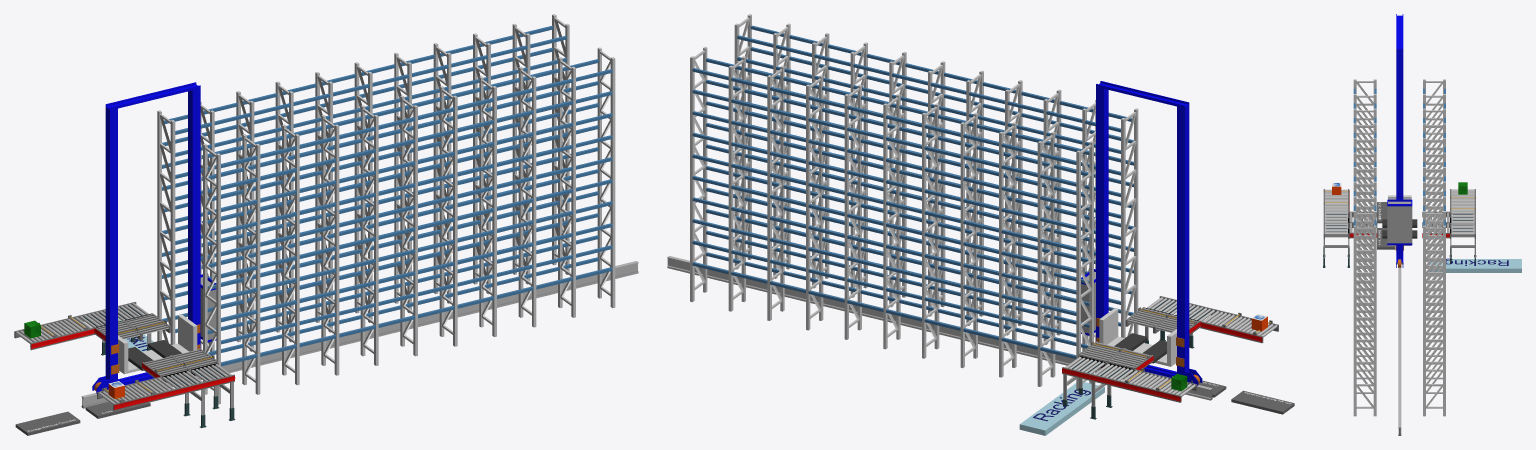
Rendered from shelf.obj.
3 views of the same model, side by side, from view 1: azimuth 30°, elevation 25°; view 2: azimuth 150°, elevation 25°; view 3: azimuth 270°, elevation 25° (orthographic). The views are drawn at different scales.
Visible parts, largest first — view 1: PalletRack3, PalletRack1, Rail1, Mast2, Shelf56, Shelf51, Shelf47, Shelf55, Shelf48, Shelf52, Shelf53, Shelf49 (+24 smaller); view 2: PalletRack1, PalletRack3, Mast2, Rail1, Shelf46, Shelf1, Shelf41, Shelf45, Shelf38, Shelf42, Mast1, Shelf43 (+22 smaller); view 3: PalletRack3, PalletRack1, Mast1, RackConfigurator, Box4, Rail1, StartSupport, SR15, Shelf56, SR7, SR10, SR11 (+10 smaller).
Part boxes in pixels (<box>): PalletRack3: <box>203,47,615,404</box>; PalletRack1: <box>157,14,569,355</box>; Rail1: <box>81,261,638,408</box>; Mast2: <box>105,107,117,382</box>; Shelf56: <box>207,59,612,168</box>; Shelf51: <box>208,169,612,278</box>; Shelf47: <box>208,257,612,366</box>; Shelf55: <box>208,81,612,190</box>; Shelf48: <box>207,235,612,344</box>; Shelf52: <box>207,147,612,256</box>; Shelf53: <box>207,125,612,234</box>; Shelf49: <box>207,213,612,322</box>; PalletRack1: <box>690,46,1093,390</box>; PalletRack3: <box>734,14,1138,350</box>; Mast2: <box>1177,105,1189,375</box>; Rail1: <box>667,256,1212,400</box>; Shelf46: <box>692,58,1089,164</box>; Shelf1: <box>692,252,1088,358</box>; Shelf41: <box>692,166,1088,272</box>; Shelf45: <box>692,79,1088,186</box>; Shelf38: <box>692,230,1089,337</box>; Shelf42: <box>692,144,1089,251</box>; Mast1: <box>1096,87,1108,340</box>; Shelf43: <box>692,123,1089,229</box>; PalletRack3: <box>1353,79,1376,416</box>; PalletRack1: <box>1423,79,1445,416</box>; Mast1: <box>1396,49,1403,259</box>; RackConfigurator: <box>1429,259,1521,272</box>; Box4: <box>1387,201,1412,243</box>; Rail1: <box>1398,259,1401,435</box>; StartSupport: <box>1323,235,1476,267</box>; SR15: <box>1323,200,1349,213</box>; Shelf56: <box>1353,88,1376,225</box>; SR7: <box>1450,201,1475,213</box>; SR10: <box>1450,223,1475,238</box>; SR11: <box>1323,223,1349,238</box>.
Bounding box in the file's own units: 11.88 × 5.38 × 4.3.
Materials: 23 (2 with a texture image).
